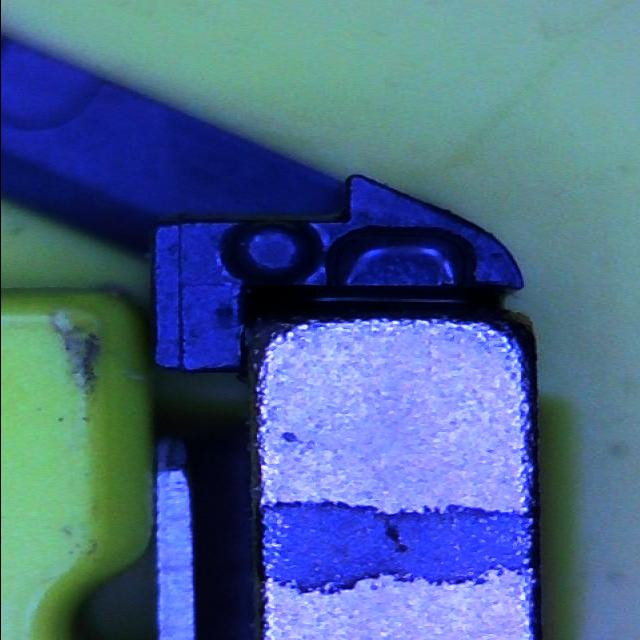good: (324, 226, 474, 294)
